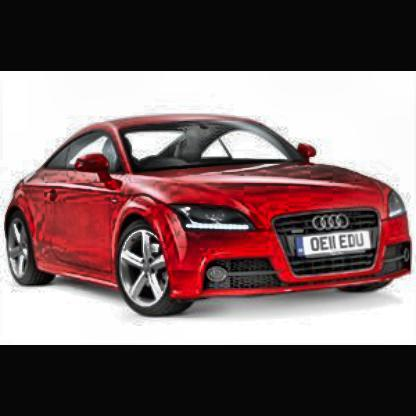Audi TT Hatchback 2011: (5, 114, 415, 320)
